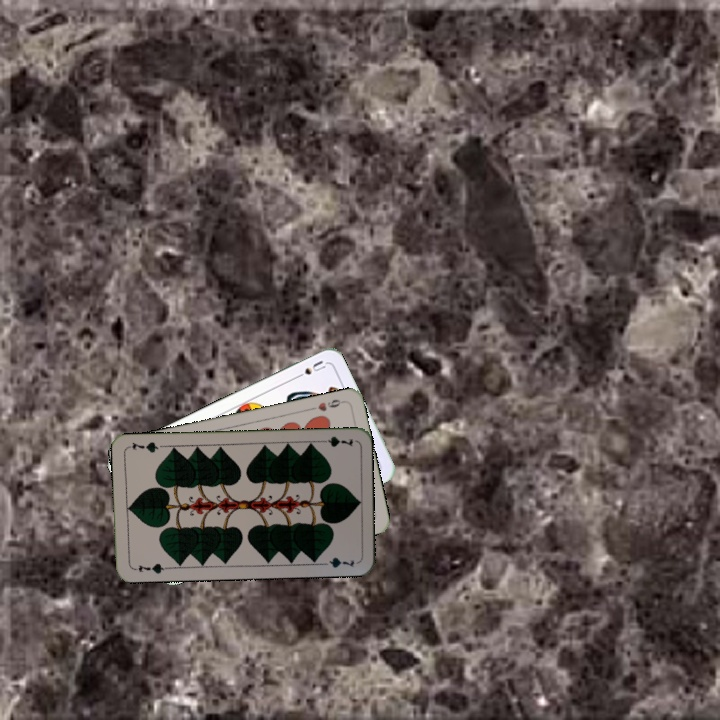G7: (315, 432, 355, 449), (130, 560, 170, 576)
H9: (307, 395, 347, 414)
SU: (290, 356, 329, 382)
